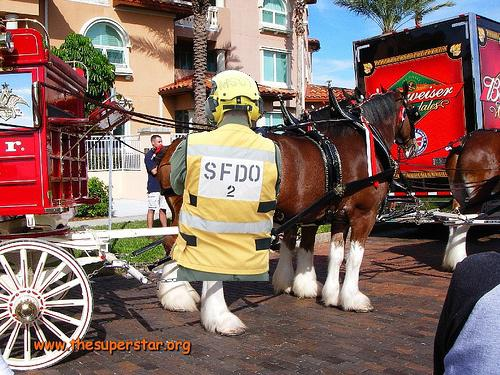tampered: (170, 70, 281, 281)
